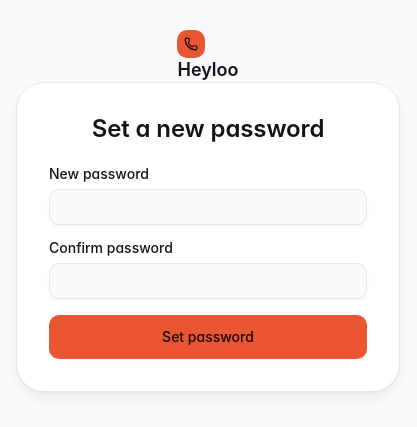
Scenario: /reset-password/confirm (AUTH-10, MAP-20) › a short password with a matching confirmation shows only the length message
The image size is (417, 427).
Step 1. Type "short" into the password field labelled "New password" → (208, 207), box [49,189,367,225]
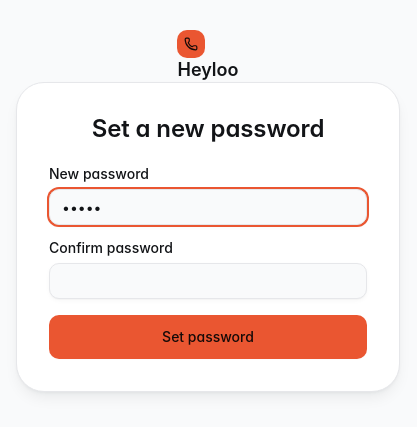
Step 2. Type "short" into the password field labelled "Confirm password" → (208, 281), box [49,263,367,299]
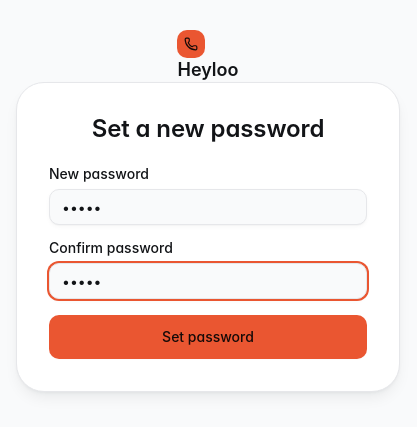
Step 3. Click the button "Set password" → (208, 337), box [49,315,367,359]
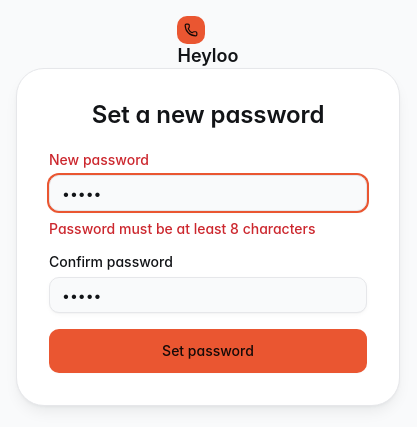
Result: the text "Password must be at least 8 characters" is shown at [49,220,316,237]
